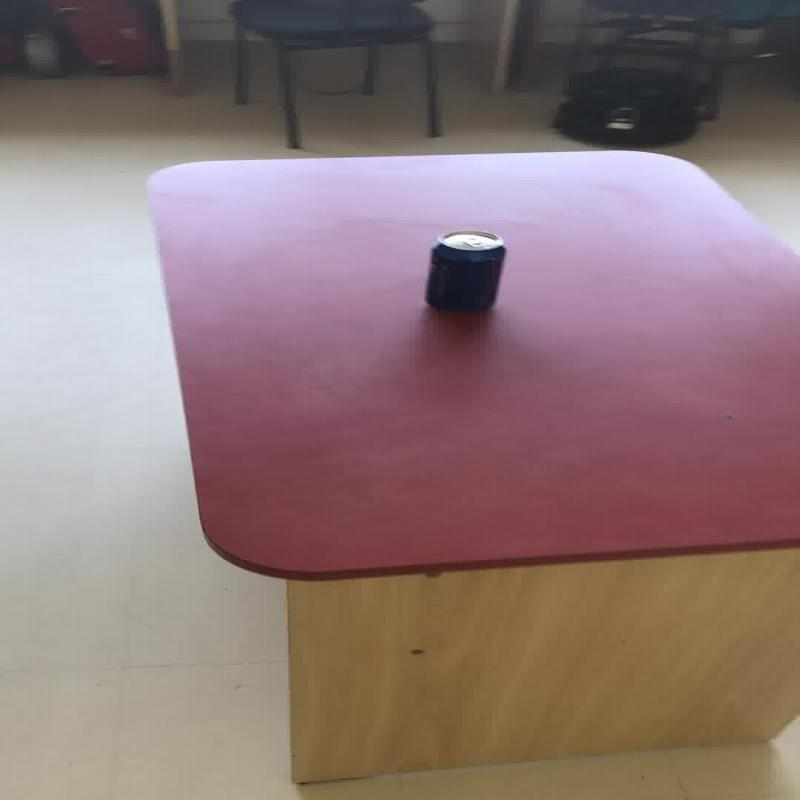tonic: (422, 228, 506, 310)
